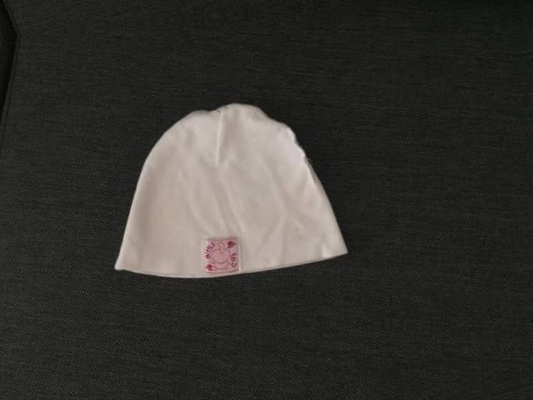Hat: (86, 64, 350, 300)
